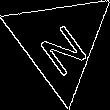N_NW: (30, 10, 89, 75)
